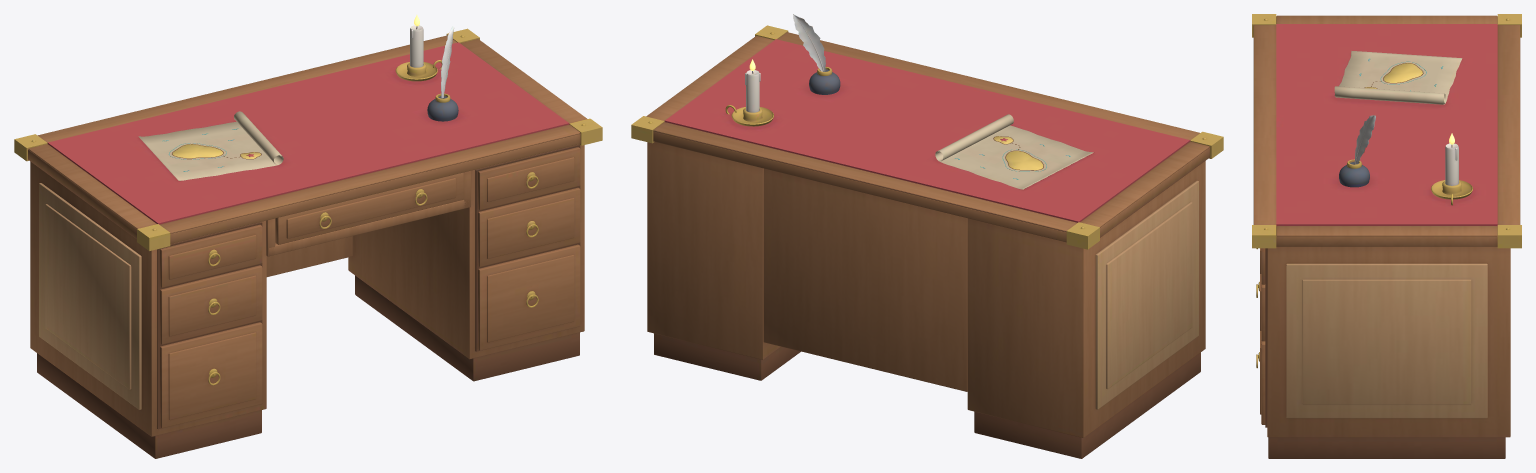
File: captains-desk.glb
The picture shows the model from 3 angles, left to right: view 1: azimuth 30°, elevation 25°; view 2: azimuth 150°, elevation 25°; view 3: azimuth 270°, elevation 25°; orthographic projection.
Visible parts, largest first — view 1: captains-desk_body, captains-desk_drawer; view 2: captains-desk_body; view 3: captains-desk_body.
Boxes of the visible parts, x1=… form: captains-desk_body: x1=14, y1=25, x2=602, y2=458; captains-desk_drawer: x1=275, y1=172, x2=463, y2=244; captains-desk_body: x1=631, y1=14, x2=1223, y2=458; captains-desk_body: x1=1252, y1=14, x2=1521, y2=458.
Bounding box in the file's own units: 1.61 × 1.05 × 0.83.
4 materials, 2 textured.
